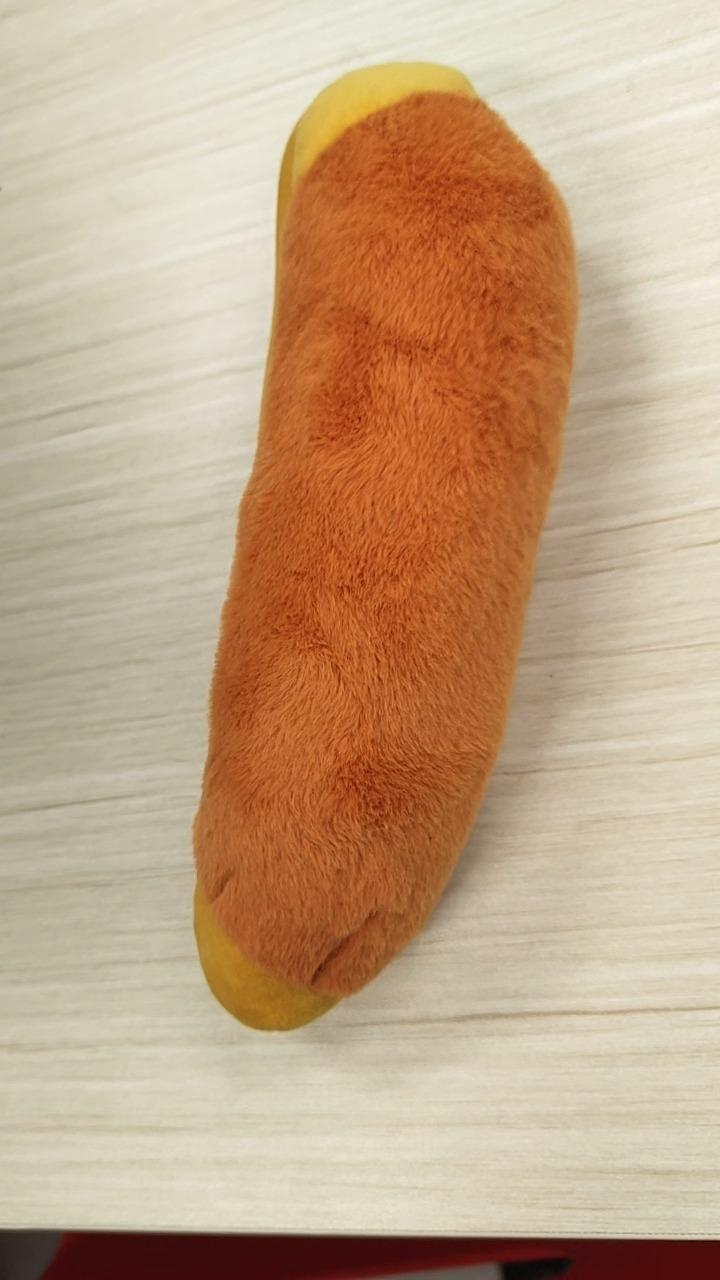hotdog: (190, 58, 579, 1032)
